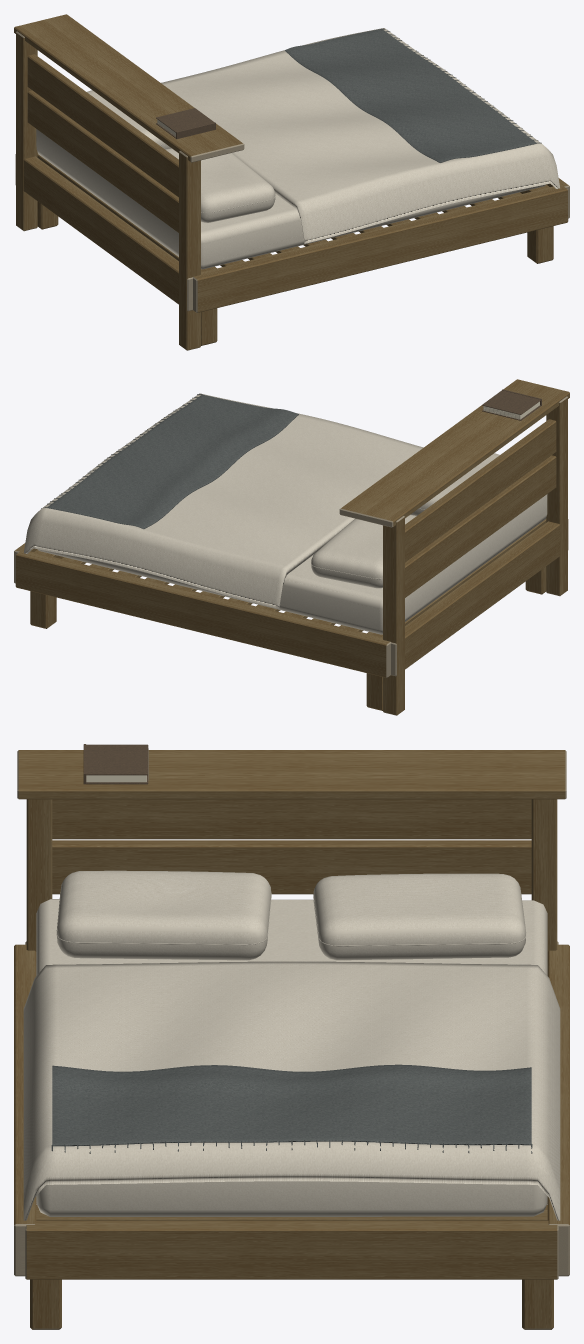
3 renders of one model, top to bottom at view 1: azimuth 30°, elevation 25°; view 2: azimuth 150°, elevation 25°; view 3: azimuth 270°, elevation 25°, orthographic. The views are drawn at different scales.
Parts seen in each view (by area): view 1: Mesh_warm, Mesh_linen, Mesh_throw, Mesh_leather, Mesh_endgrain; view 2: Mesh_warm, Mesh_linen, Mesh_throw, Mesh_leather, Mesh_endgrain; view 3: Mesh_linen, Mesh_warm, Mesh_throw, Mesh_leather, Mesh_endgrain.
Boxes of the visible parts, left/top/right/bottom form: Mesh_warm: left=14, top=14, right=568, bottom=350; Mesh_linen: left=36, top=28, right=559, bottom=269; Mesh_throw: left=285, top=28, right=541, bottom=162; Mesh_leather: left=156, top=108, right=215, bottom=139; Mesh_endgrain: left=16, top=31, right=569, bottom=350; Mesh_warm: left=15, top=379, right=569, bottom=715; Mesh_linen: left=24, top=393, right=547, bottom=634; Mesh_throw: left=41, top=394, right=298, bottom=529; Mesh_leather: left=482, top=389, right=541, bottom=420; Mesh_endgrain: left=14, top=396, right=567, bottom=715; Mesh_linen: left=23, top=870, right=560, bottom=1220; Mesh_warm: left=14, top=750, right=569, bottom=1329; Mesh_throw: left=51, top=1064, right=532, bottom=1153; Mesh_leather: left=83, top=744, right=148, bottom=784; Mesh_endgrain: left=14, top=750, right=569, bottom=1329.
Size of the model in its own units: 2.14 by 1.09 by 1.74.
Materials: 6 (5 with a texture image).
